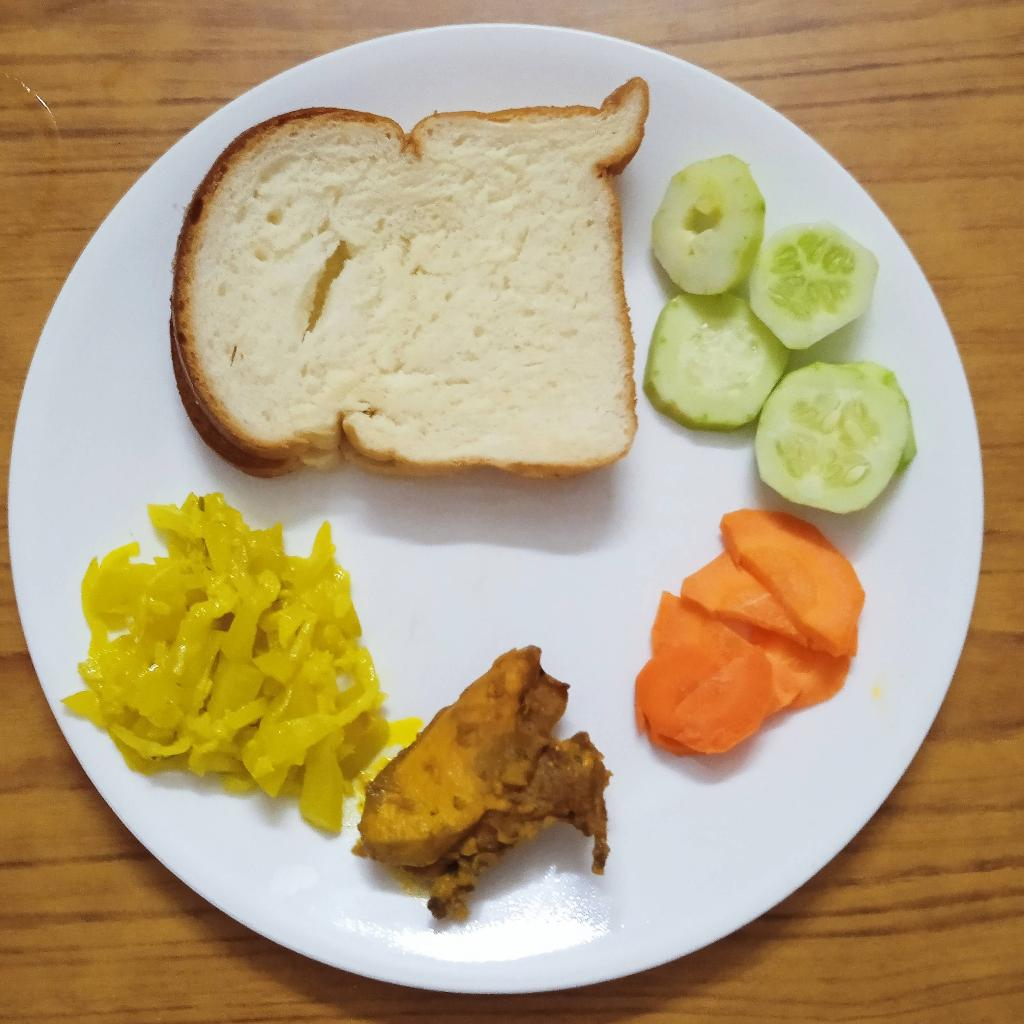bread: (170, 75, 649, 476)
carrot: (632, 511, 869, 752)
chichinga-vaji: (68, 496, 390, 833)
chicken: (358, 650, 609, 918)
cucumber: (646, 154, 916, 521)
